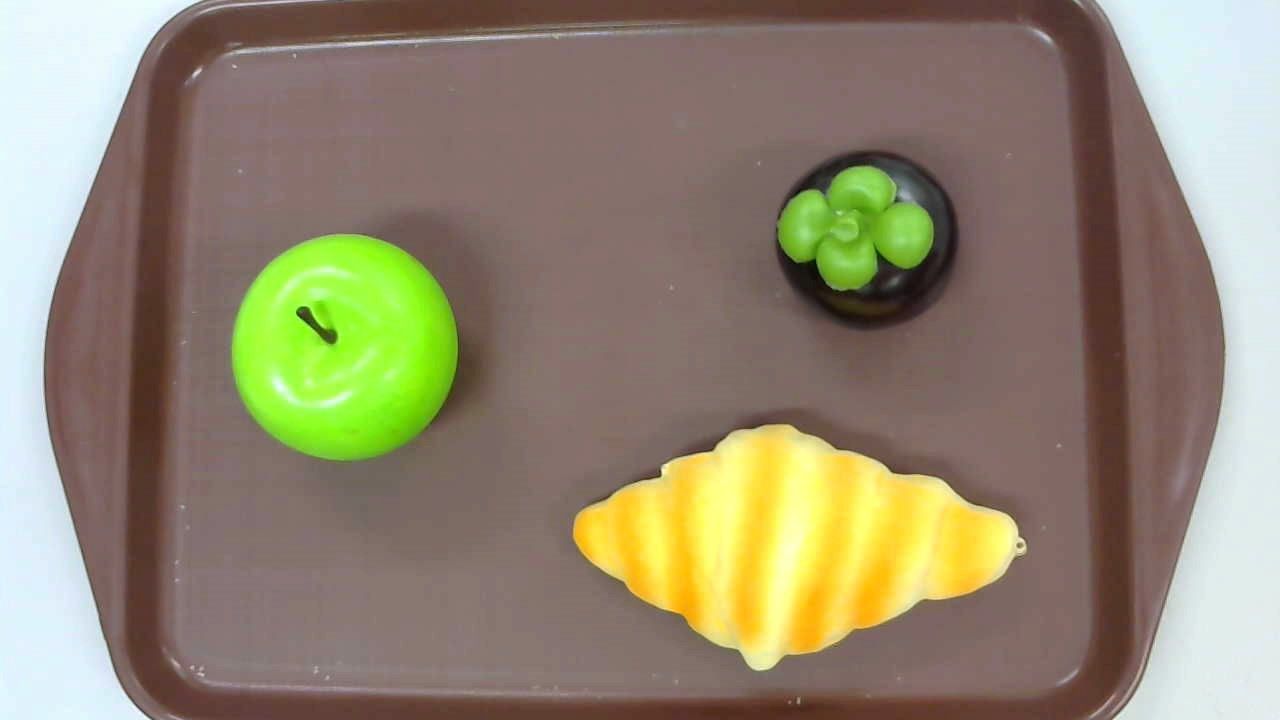croissant: (573, 423, 1027, 670)
green apple: (229, 231, 458, 461)
mangosteen: (773, 151, 960, 331)
